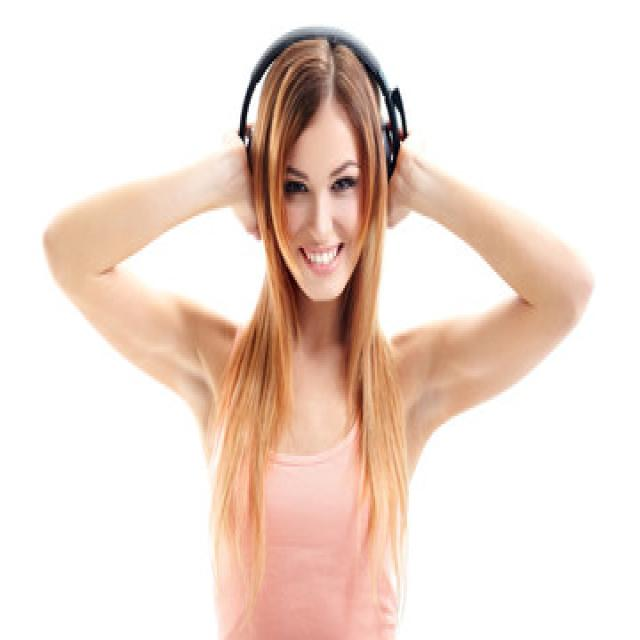Headphone: (235, 22, 407, 186)
